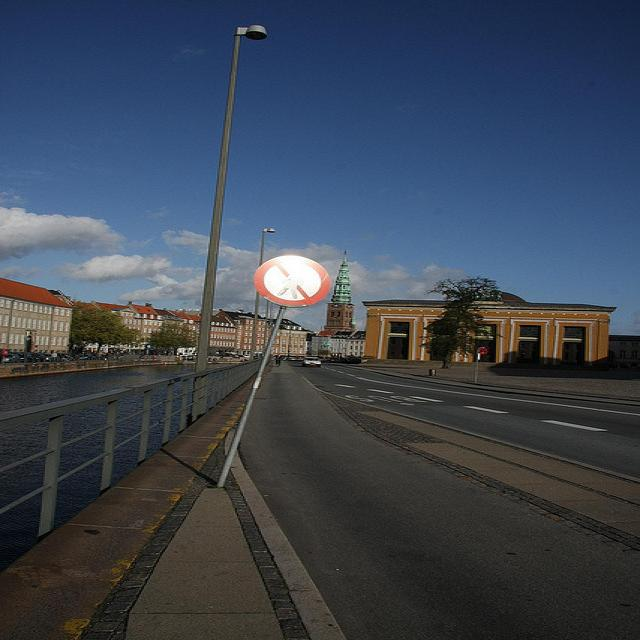Vehicle: (301, 355, 325, 367), (1, 354, 21, 363)
